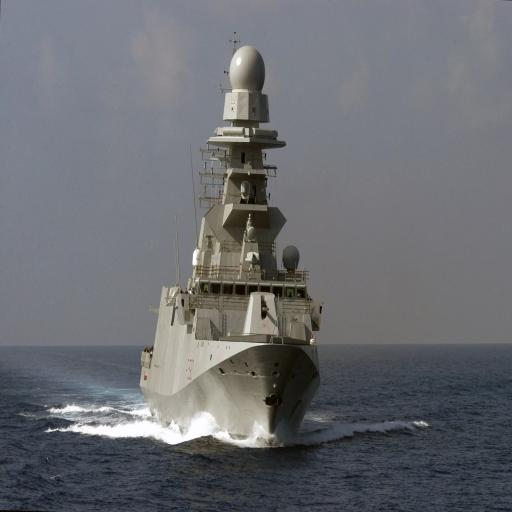Fragata: (122, 24, 313, 455)
